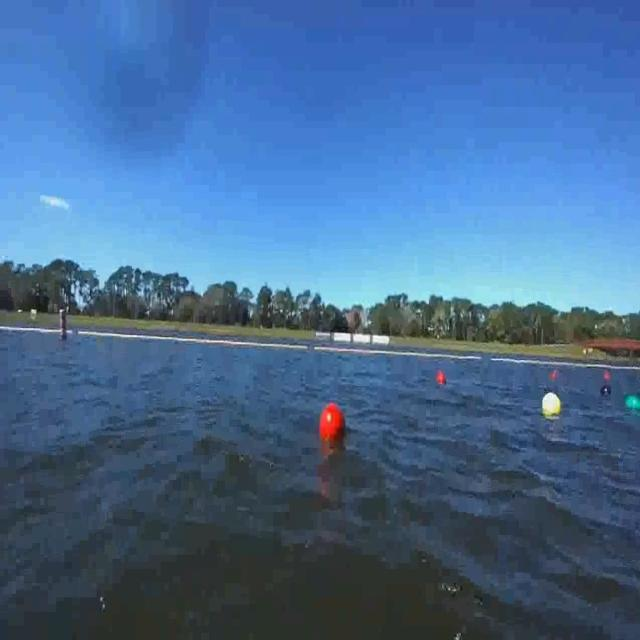black-buoy: (601, 384, 611, 397)
green-buoy: (625, 398, 640, 414)
red-buoy: (320, 404, 347, 443), (436, 370, 445, 385), (552, 369, 559, 379)
yellow-buoy: (544, 394, 564, 420)
